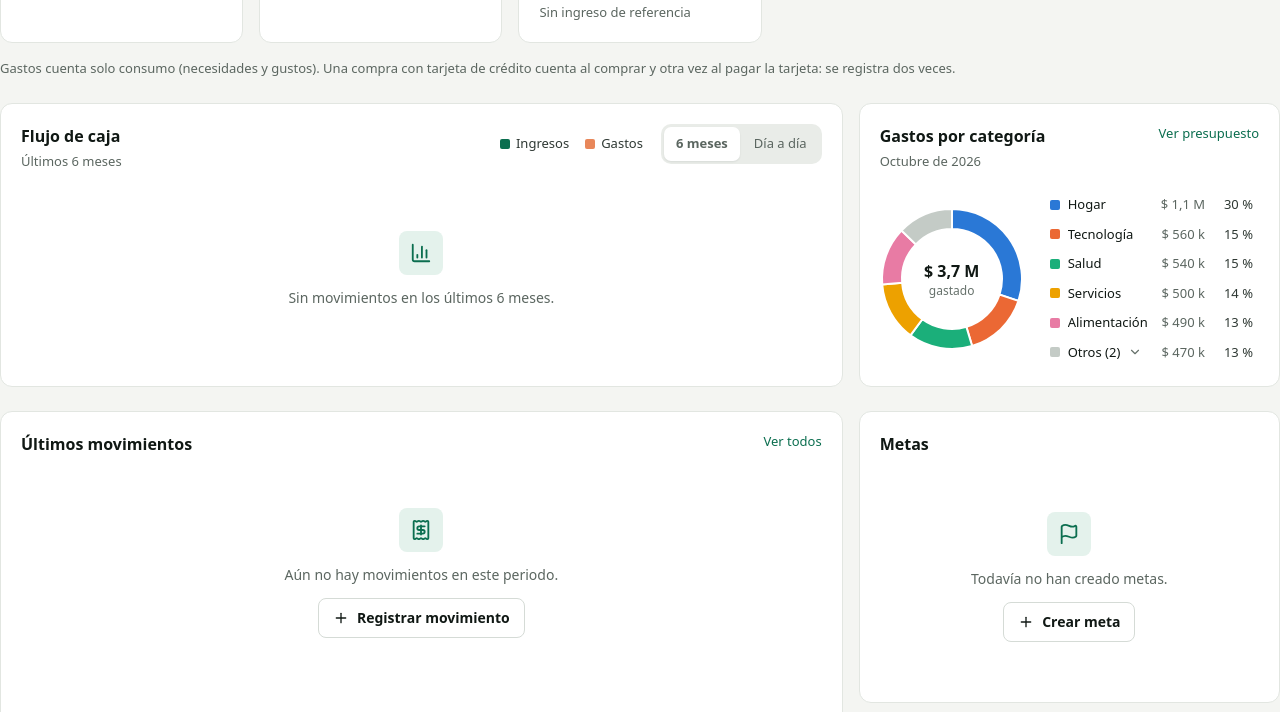
Test: interactive charts in the dashboard › names the 5 biggest categories and folds the rest into an expandable Otros
(page scrolled)
Check: the buttons "Ver movimientos de" read "Hogar$ 1,1 M30 %", "Tecnología$ 560 k15 %", "Salud$ 540 k15 %", "Servicios$ 500 k14 %", "Alimentación$ 490 k13 %", in this order, box [1044, 191, 1259, 218]; [1044, 220, 1259, 248]; [1044, 250, 1259, 278]; [1044, 280, 1259, 307]; [1044, 309, 1259, 336]
Click the button "Otros (2) $ 470 k 13 %": (1151,352) [1044, 338, 1259, 366]
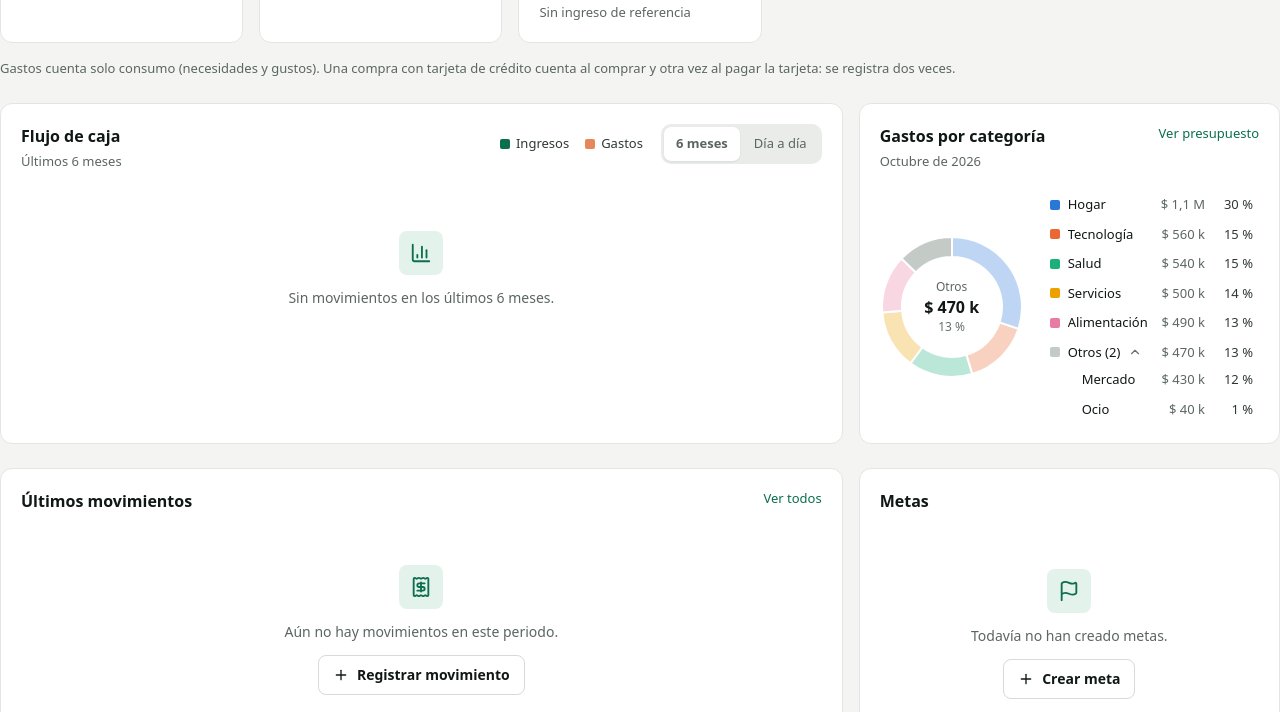
Check: the button "Otros (2) $ 470 k 13 %" is expanded, box [1044, 338, 1259, 366]
Check: the button with aria-label "Ver movimientos de Mercado" is shown, box [1044, 366, 1259, 394]
Check: the button with aria-label "Ver movimientos de Ocio" is shown, box [1044, 396, 1259, 423]
